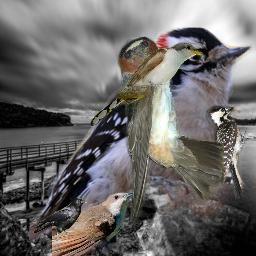Crow: (33, 197, 88, 242)
Cuckoo: (88, 41, 207, 127), (52, 192, 136, 256)
Swallow: (117, 36, 224, 228)
Woodpecker: (29, 27, 253, 244), (205, 105, 250, 199)
